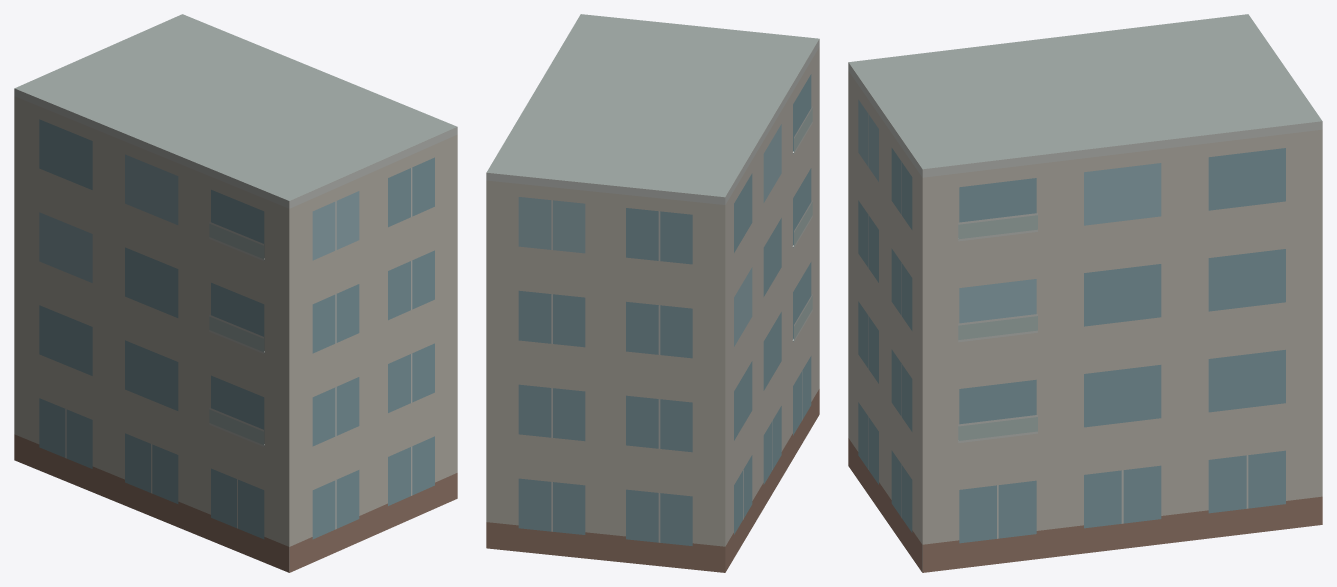
Rendered from survey-upis-32673355.glb.
3 renders of one model, left to right at view 1: azimuth 30°, elevation 25°; view 2: azimuth 150°, elevation 25°; view 3: azimuth 270°, elevation 25°, orthographic. The views are drawn at different scales.
Visible parts, largest first — view 1: survey-upis-32673355.tmp; view 2: survey-upis-32673355.tmp; view 3: survey-upis-32673355.tmp.
Part boxes in pixels (x1,y1,x2,y2): survey-upis-32673355.tmp: (14, 14, 457, 572); survey-upis-32673355.tmp: (486, 14, 819, 572); survey-upis-32673355.tmp: (848, 14, 1322, 572).
Bounding box in the file's own units: 9.66 × 11.7 × 12.47.
